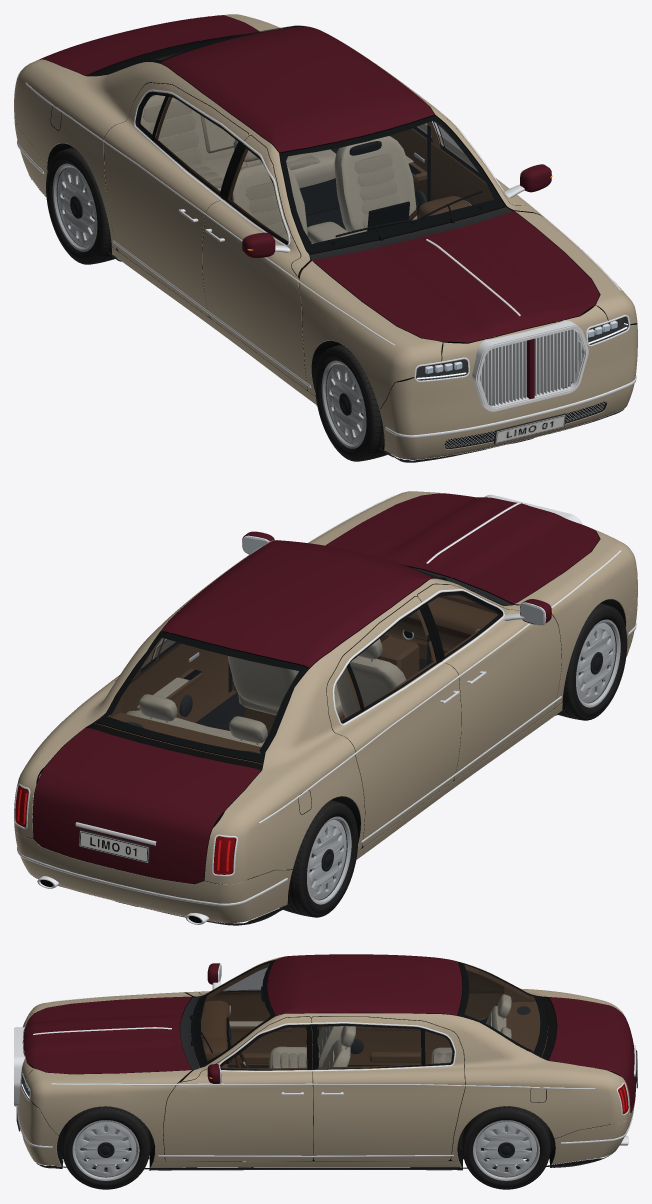
File: luxury-limousine.glb
3 views of the same model, one above another, from view 1: azimuth 30°, elevation 25°; view 2: azimuth 150°, elevation 25°; view 3: azimuth 270°, elevation 25° (orthographic). The views are drawn at different scales.
Visible parts, largest first — view 1: Body, Wheel_FR, Wheel_RR; view 2: Body, Wheel_RR, Wheel_FR; view 3: Body, Wheel_FL, Wheel_RL.
Boxes of the visible parts, x1,y1,x2,y2 form: Body: [14, 14, 637, 462]; Wheel_FR: [315, 344, 390, 461]; Wheel_RR: [46, 147, 116, 264]; Body: [14, 491, 637, 925]; Wheel_RR: [280, 800, 358, 917]; Wheel_FR: [558, 603, 627, 720]; Body: [14, 954, 637, 1170]; Wheel_FL: [61, 1106, 150, 1189]; Wheel_RL: [462, 1106, 550, 1189].
Bounding box in the file's own units: 2.3 × 1.64 × 5.48.
Materials: 59 (13 with a texture image).
